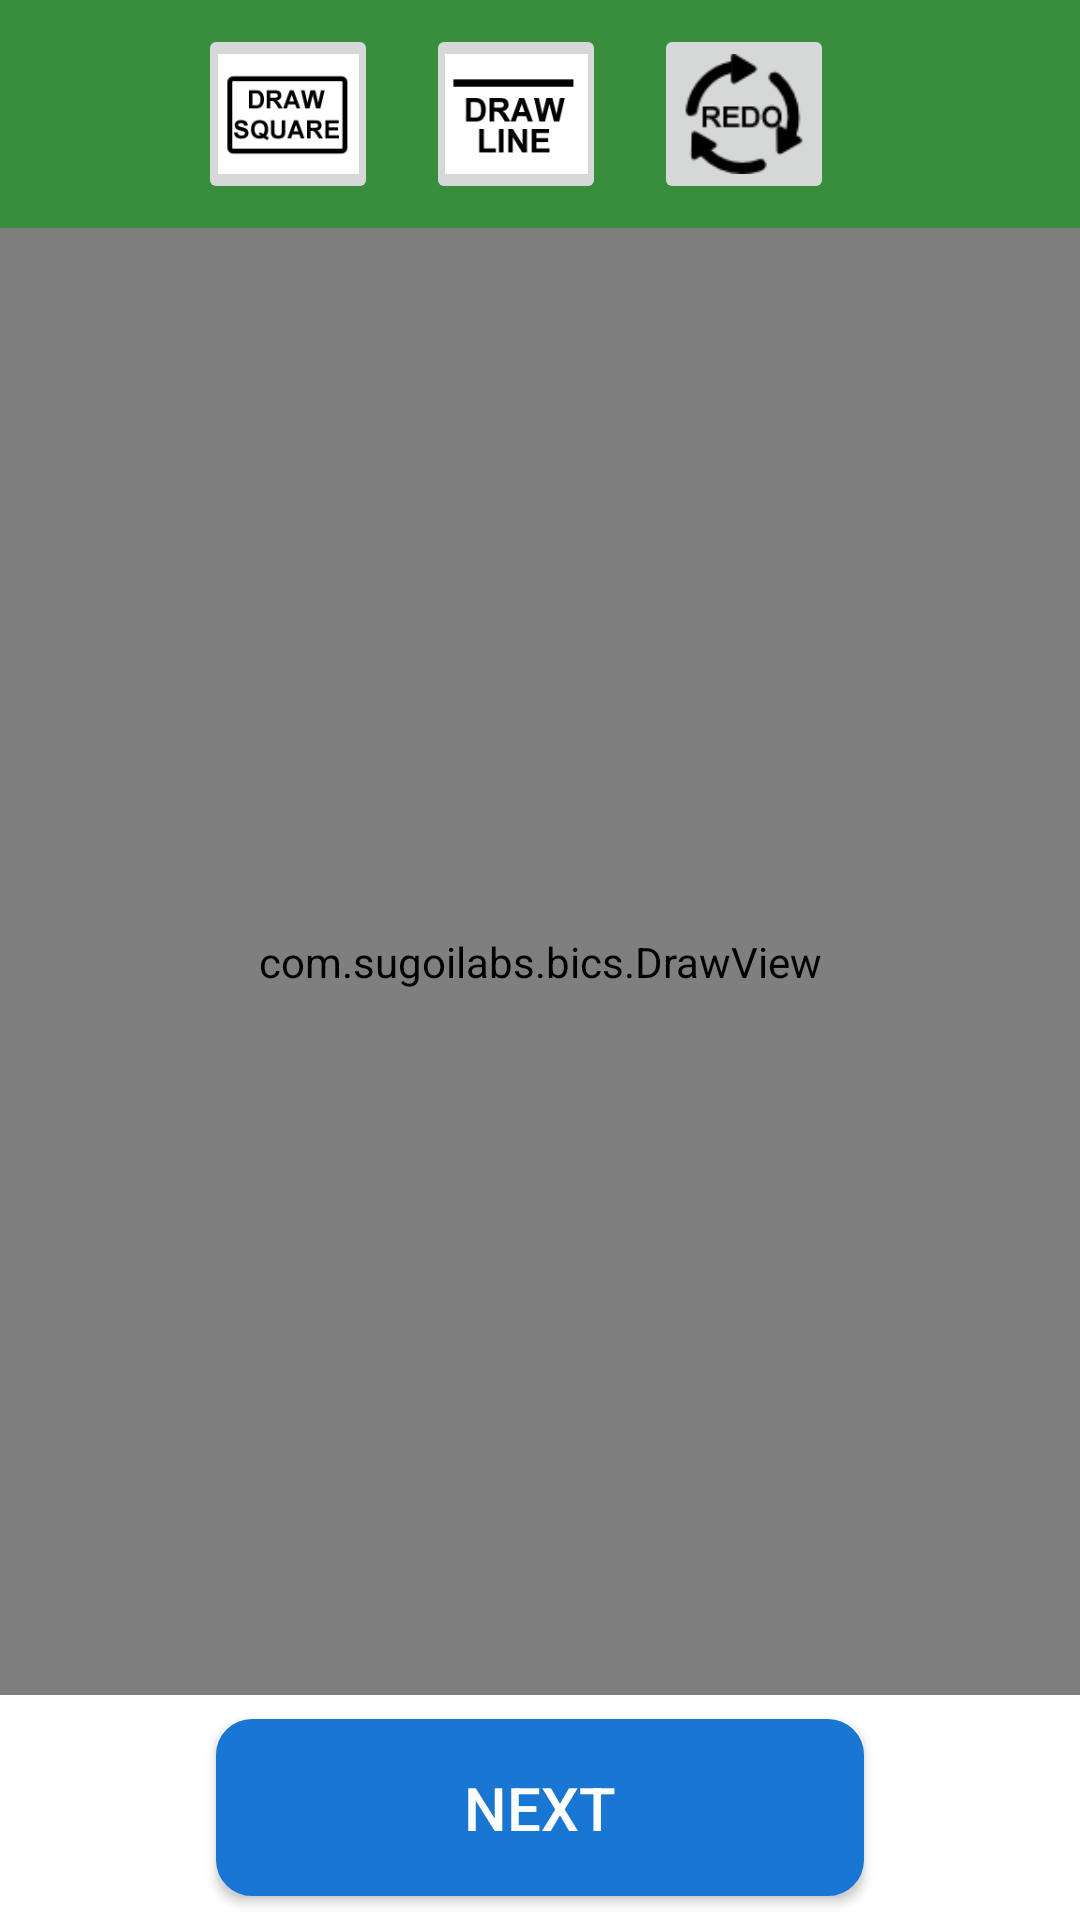

Point at icon controls on the screen. Image size 1080×1920, points as (x=x, y=y).
minus with text: (x=516, y=114)
recycle with text: (x=744, y=114)
